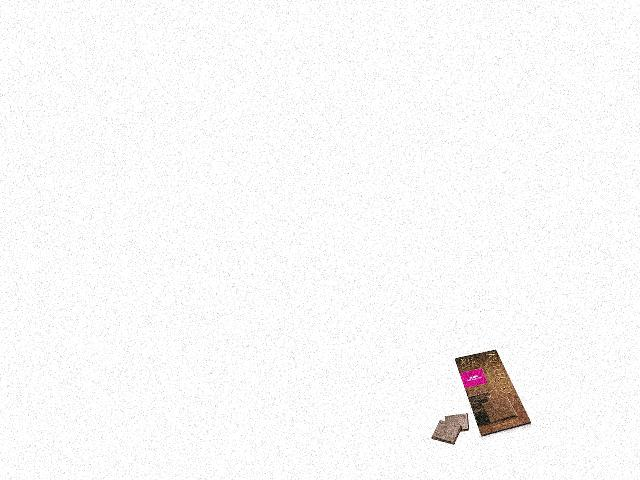chocolate: (453, 348, 531, 438)
